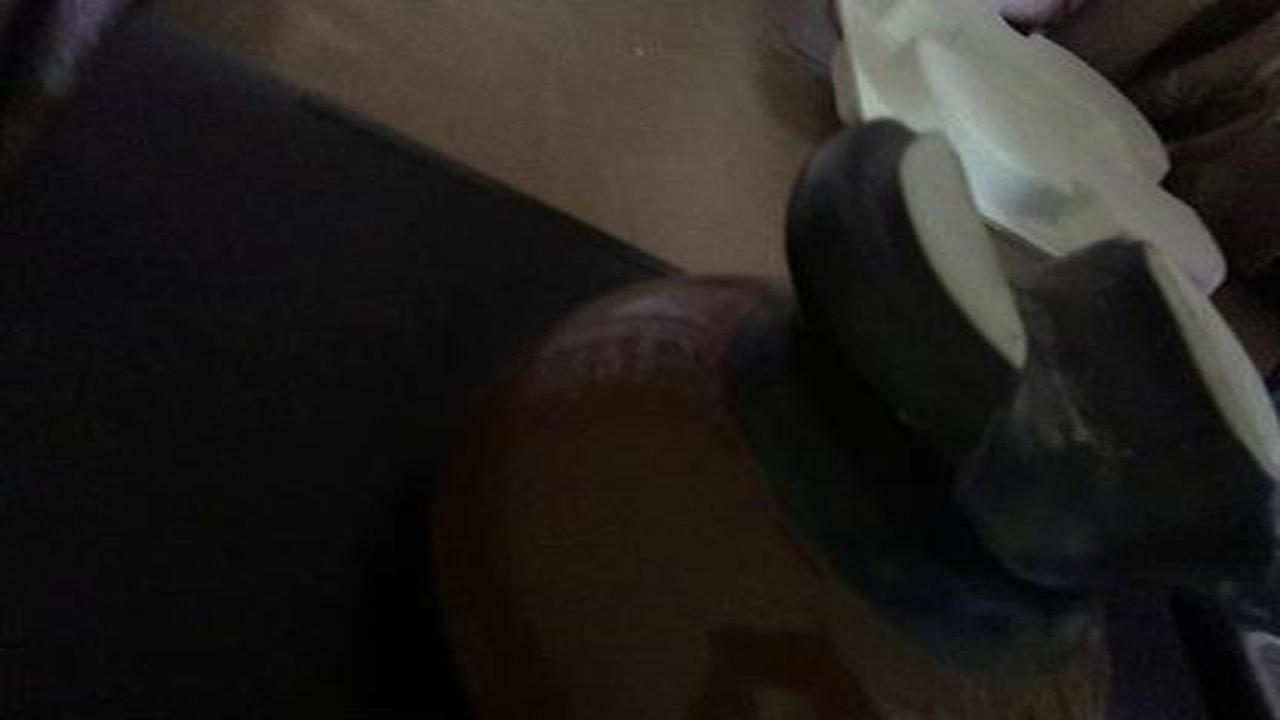insulator_pin: (400, 115, 1280, 712)
